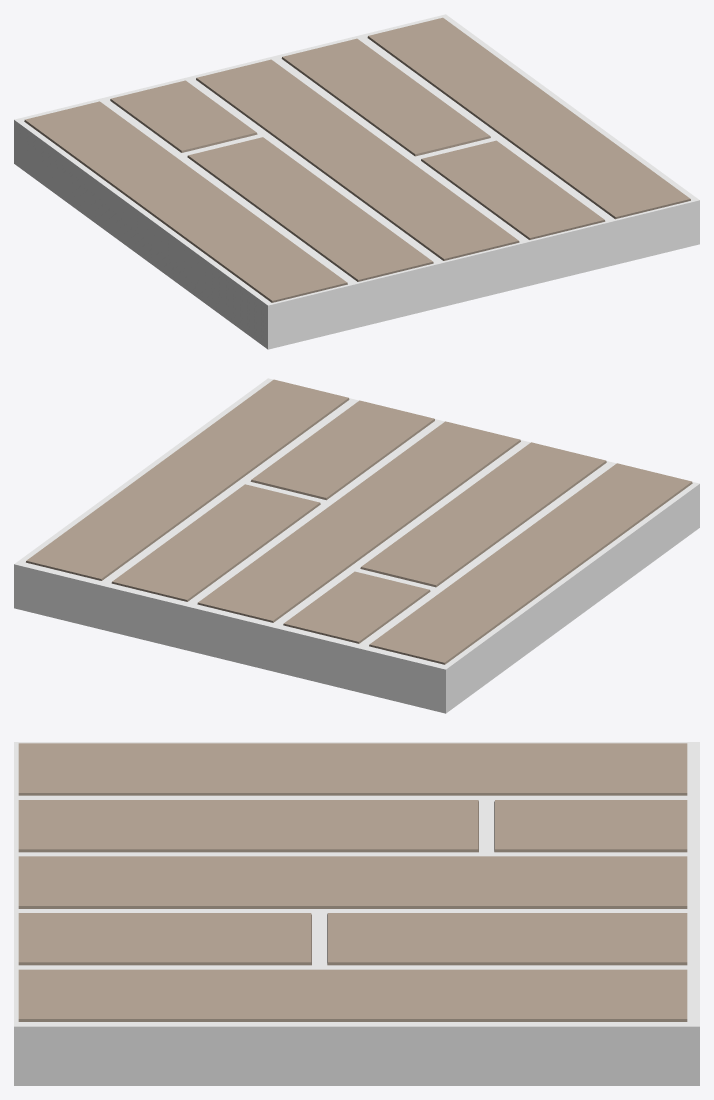
File: modular_village_wood_floor_3.glb
The picture shows the model from 3 angles, top to bottom: view 1: azimuth 30°, elevation 25°; view 2: azimuth 150°, elevation 25°; view 3: azimuth 270°, elevation 25°; orthographic projection. The views are drawn at different scales.
Parts seen in each view (by area): view 1: object1, Cube; view 2: object1, Cube; view 3: object1, Cube.
Part boxes in pixels (x1,y1,x2,y2): object1: (24, 17, 690, 302); Cube: (14, 14, 699, 349); object1: (26, 379, 692, 664); Cube: (14, 378, 699, 713); object1: (18, 743, 687, 1021); Cube: (14, 742, 699, 1085).
Bounding box in the file's own units: 1.01 × 0.1024 × 1.03.
